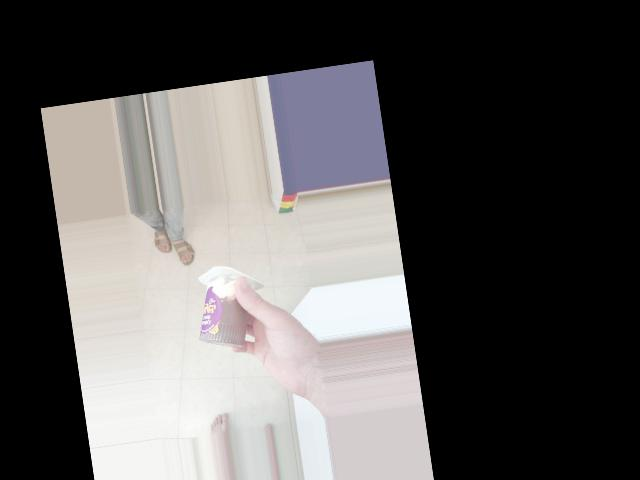milky: (190, 266, 256, 350)
